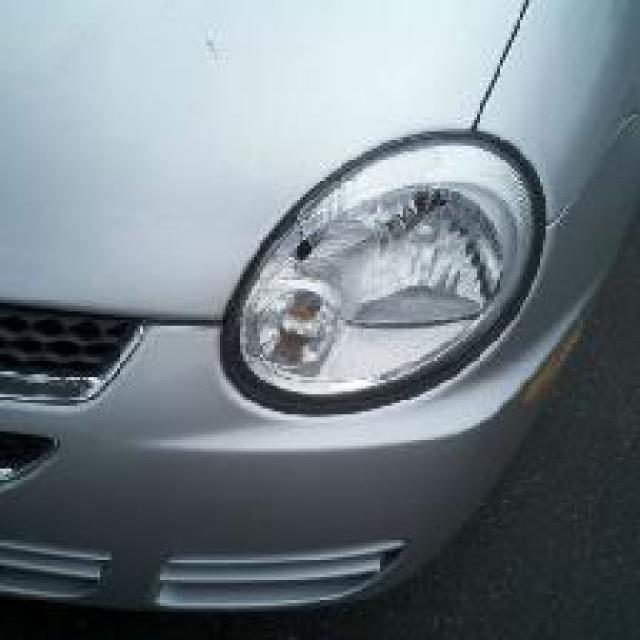damaged: (248, 174, 520, 400)
